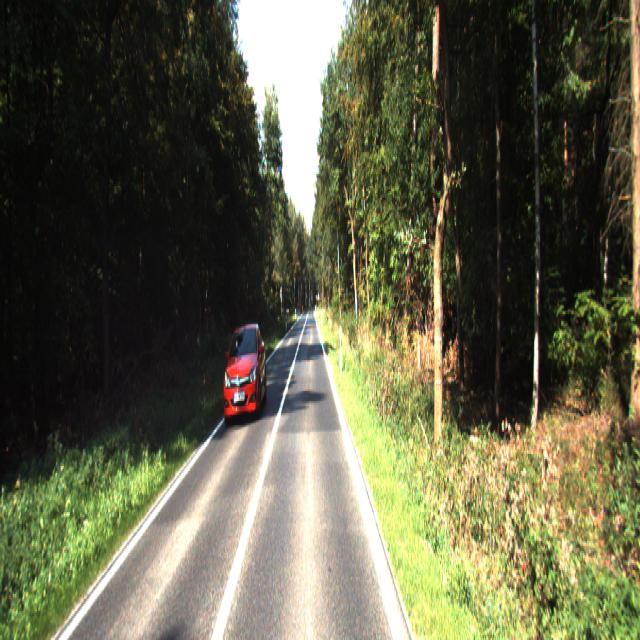Car: (220, 319, 268, 427)
